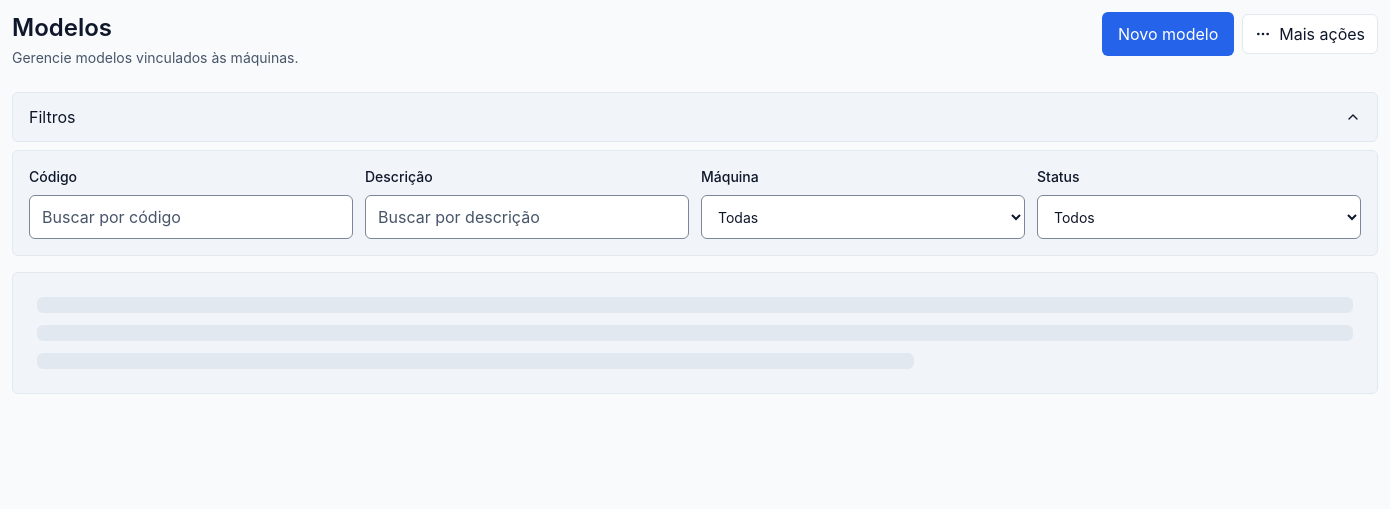
Test case: ModelosPage cabeçalho › deve mostrar o erro junto do cabeçalho quando a exportação falha
This screenshot has width=1390, height=509.
Click the button "Mais ações": [1310, 34] box top-left (1242, 14), bottom-right (1378, 54)
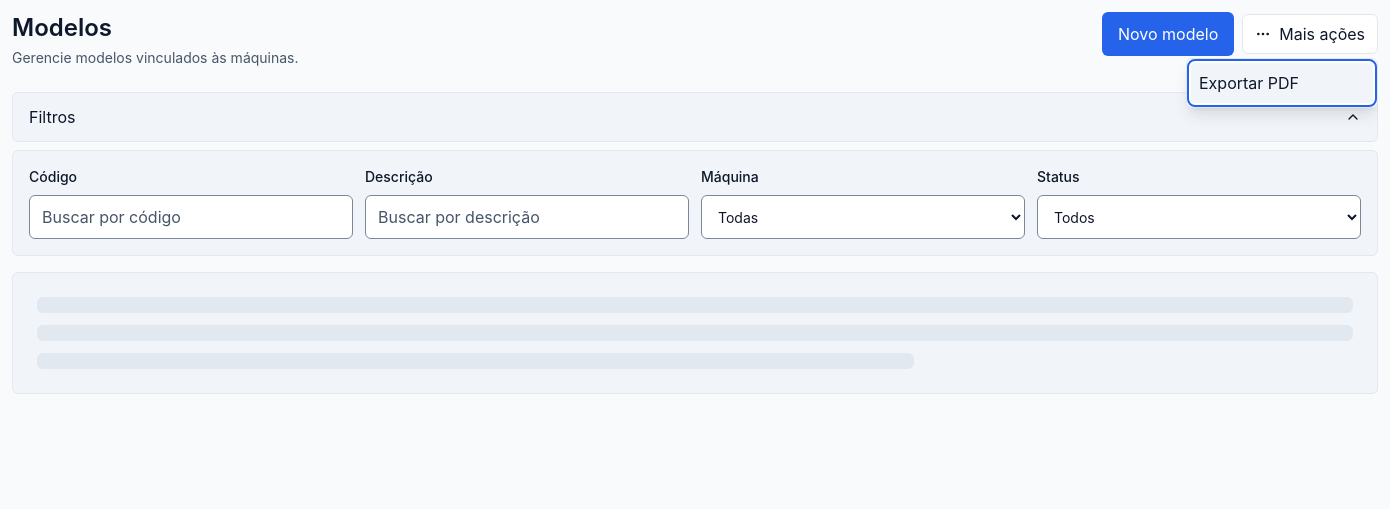
Click the menu item "Exportar PDF": [1282, 83] box top-left (1191, 63), bottom-right (1373, 103)
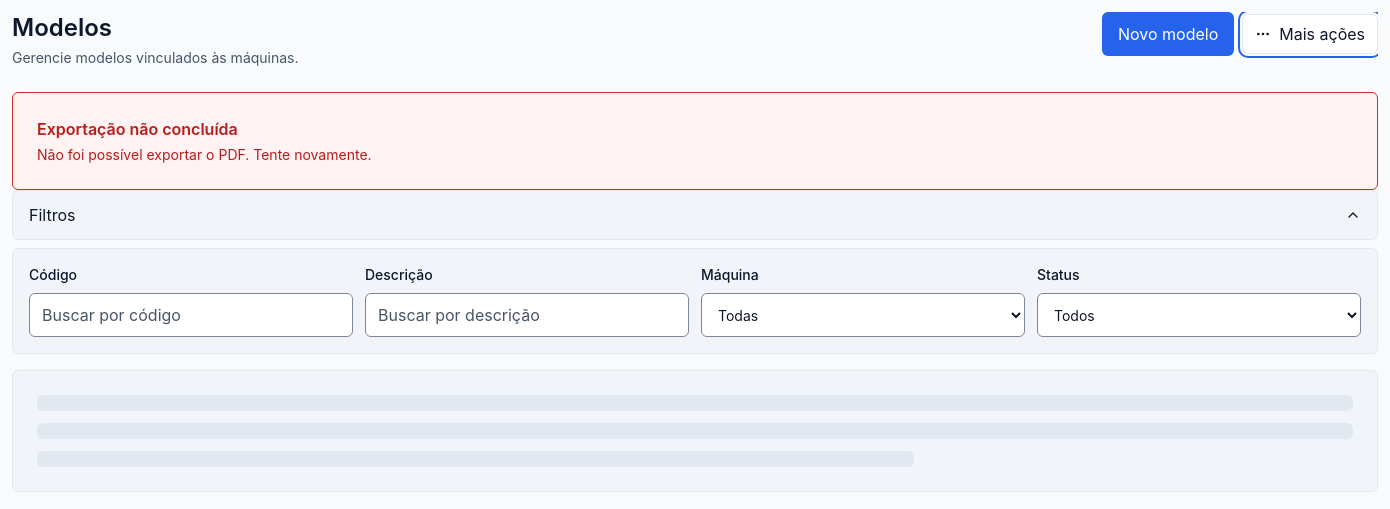
Check: the heading "Exportação não concluída" is shown, box top-left (37, 119), bottom-right (238, 139)
